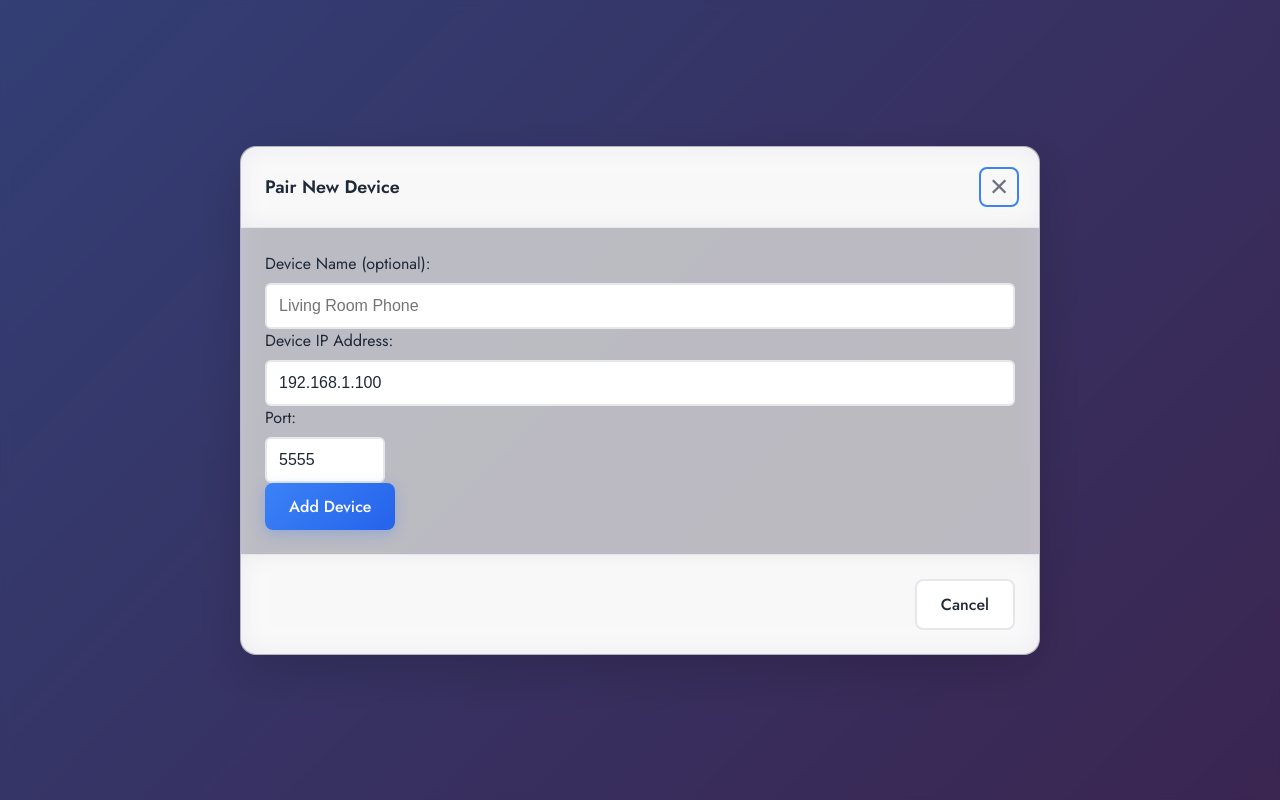
Test: PairDeviceModal › edge cases › handles wireless connection error
Click the button "Add Device" at x=330, y=506, box [265,482,396,530]
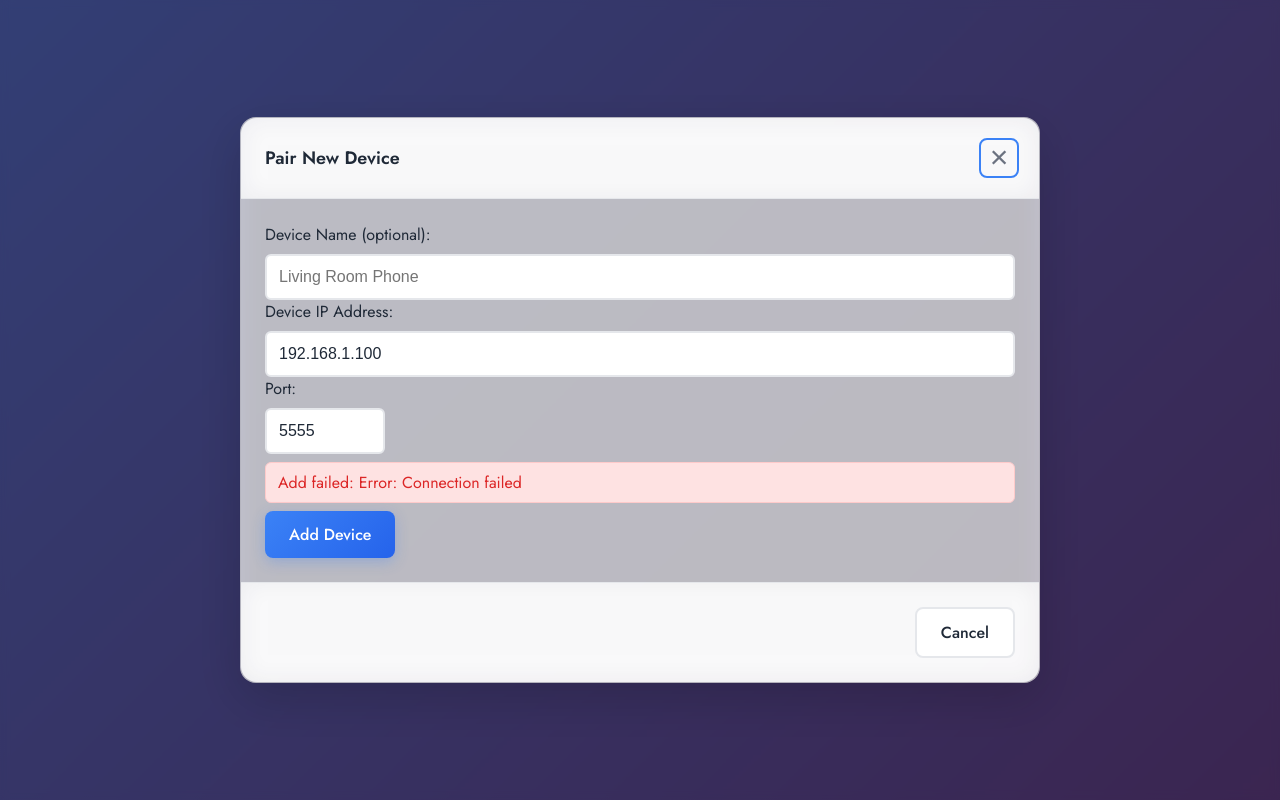
expect the text "Add failed: Error: Connection failed" is shown: met, box [265,462,1015,503]
